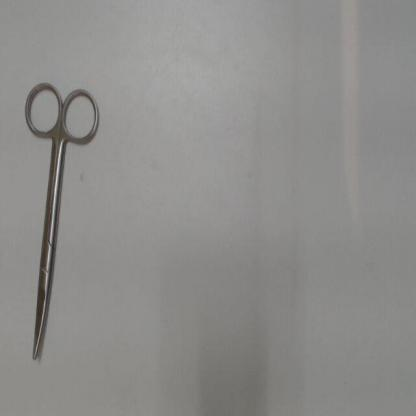Curved Mayo Scissors: (21, 77, 105, 370)
